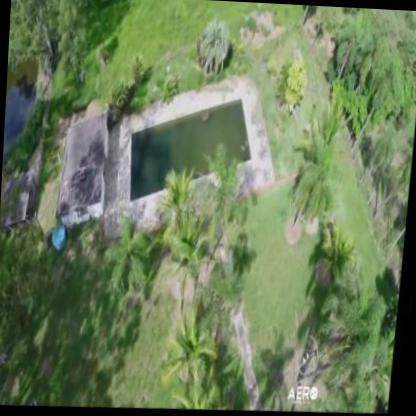agua: (141, 96, 240, 202)
